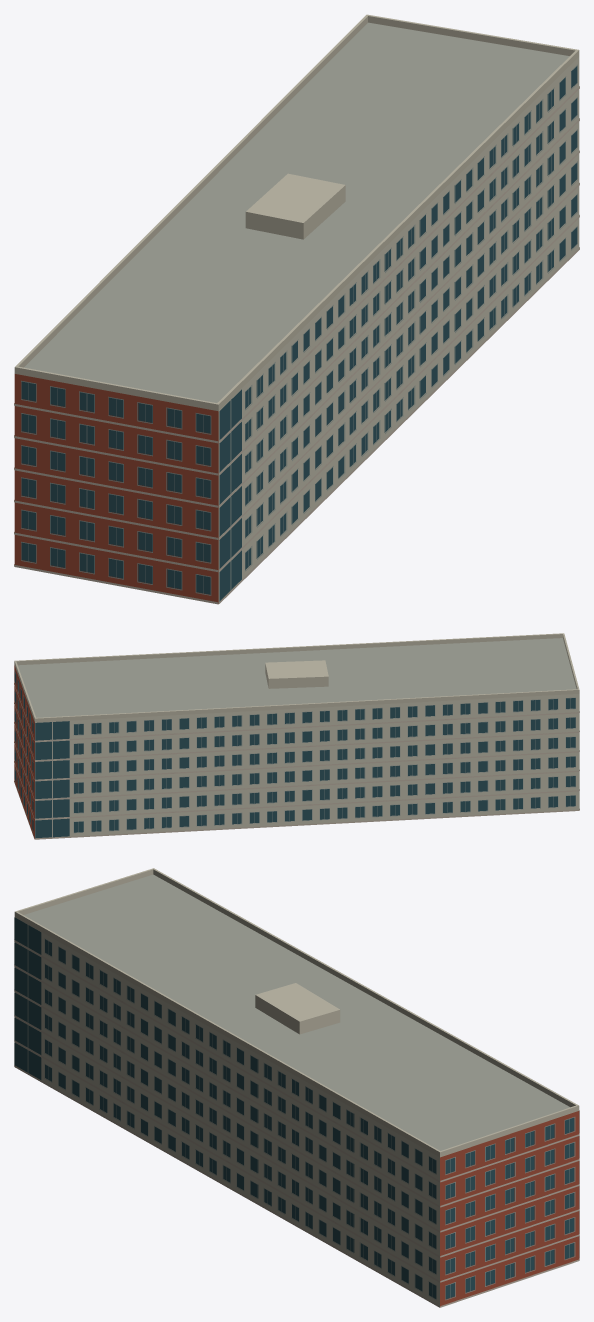
The picture shows the model from 3 angles, top to bottom: view 1: azimuth 30°, elevation 25°; view 2: azimuth 150°, elevation 25°; view 3: azimuth 270°, elevation 25°; orthographic projection. The views are drawn at different scales.
Visible parts, largest first — view 1: B19_teaching, V05_B19_facade, B19_teaching_parapet, B19_teaching_plant; view 2: B19_teaching, V05_B19_facade, B19_teaching_parapet, B19_teaching_plant; view 3: B19_teaching, V05_B19_facade, B19_teaching_parapet, B19_teaching_plant.
Boxes of the visible parts, left/top/right/bottom form: B19_teaching: left=14, top=22, right=579, bottom=604; V05_B19_facade: left=14, top=64, right=579, bottom=604; B19_teaching_parapet: left=14, top=14, right=579, bottom=411; B19_teaching_plant: left=245, top=173, right=345, bottom=239; B19_teaching: left=14, top=638, right=579, bottom=839; V05_B19_facade: left=14, top=670, right=579, bottom=839; B19_teaching_parapet: left=14, top=633, right=579, bottom=722; B19_teaching_plant: left=265, top=660, right=328, bottom=688; B19_teaching: left=14, top=874, right=579, bottom=1307; V05_B19_facade: left=14, top=917, right=579, bottom=1307; B19_teaching_parapet: left=14, top=868, right=579, bottom=1157; B19_teaching_plant: left=255, top=983, right=340, bottom=1034.
Size of the model in its own units: 95 by 25.4 by 79.84.
Materials: 7 (1 with a texture image).
